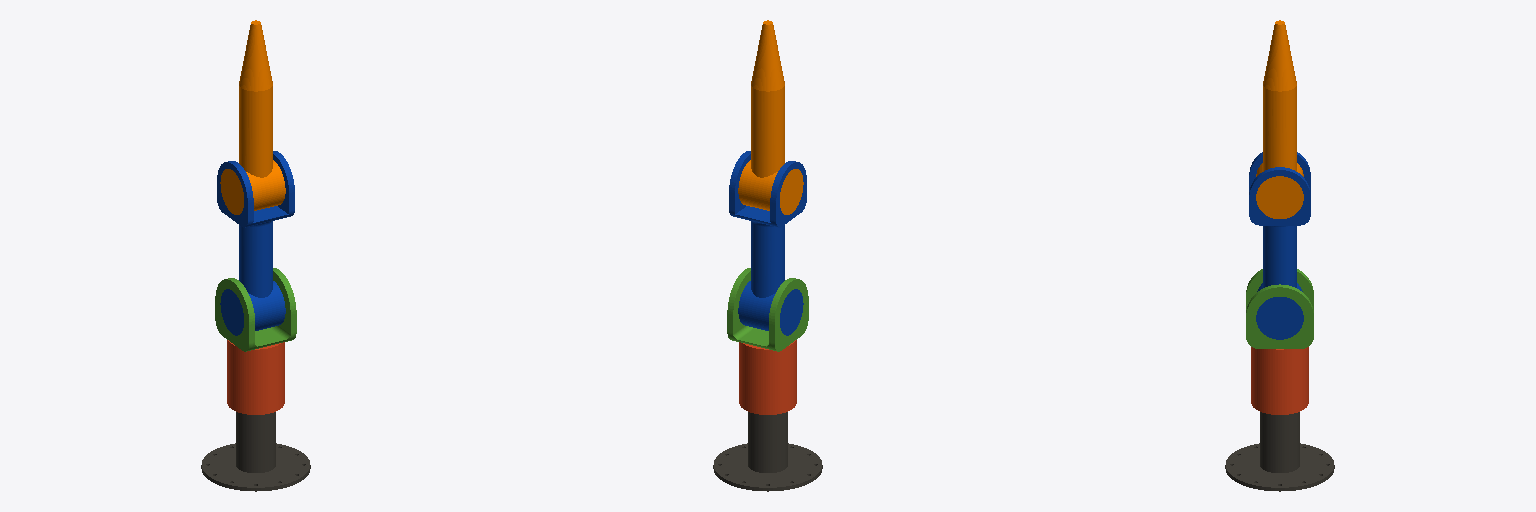
robot.urdf — adjustable_height_arm_urdf:
<?xml version="1.0" ?>
<!-- Generated using onshape-to-robot -->
<!-- OnShape https://cad.onshape.com/documents/6a6e5b10ef079339c2ddde84/w/207da6d79692e0bbf50113f2/e/9f3edd12689fa0c486a7d0d7 -->
<robot name="adjustable_height_arm_urdf">
    <!-- Link base -->
    <link name="base">
        <inertial>
            <origin xyz="0 0 0" rpy="0 0 0"/>
            <mass value="0"/>
            <inertia ixx="0" ixy="0" ixz="0" iyy="0" iyz="0" izz="0"/>
        </inertial>
        <!-- Part base -->
        <visual>
            <origin xyz="0 0 0" rpy="0 -0 0"/>
            <geometry>
                <mesh filename="package://assets/base.stl"/>
            </geometry>
            <material name="base_material">
                <color rgba="0.301961 0.290196 0.262745 1.0"/>
            </material>
        </visual>
    </link>
    <!-- Link part1 -->
    <link name="part1">
        <inertial>
            <origin xyz="1.04896e-19 1.19328e-18 0.027892" rpy="0 0 0"/>
            <mass value="0.298971"/>
            <inertia ixx="0.000123868" ixy="0" ixz="0" iyy="0.000123868" iyz="0" izz="9.58869e-05"/>
        </inertial>
        <!-- Part part1 -->
        <visual>
            <origin xyz="0 -4.65366e-18 -0.053" rpy="0 -0 0"/>
            <geometry>
                <mesh filename="package://assets/part1.stl"/>
            </geometry>
            <material name="part1_material">
                <color rgba="0.866667 0.321569 0.156863 1.0"/>
            </material>
        </visual>
    </link>
    <!-- Link part2 -->
    <link name="part2">
        <inertial>
            <origin xyz="6.6239e-09 -1.69553e-10 -0.0149478" rpy="0 0 0"/>
            <mass value="0.148575"/>
            <inertia ixx="6.89125e-05" ixy="6.11498e-11" ixz="-5.85353e-12" iyy="6.97803e-05" iyz="1.49834e-13" izz="6.69782e-05"/>
        </inertial>
        <!-- Part part2 -->
        <visual>
            <origin xyz="2.82344e-18 1.22153e-17 0.106" rpy="3.14159 -0 -8.41403e-56"/>
            <geometry>
                <mesh filename="package://assets/part2.stl"/>
            </geometry>
            <material name="part2_material">
                <color rgba="0.372549 0.654902 0.239216 1.0"/>
            </material>
        </visual>
    </link>
    <!-- Link part3 -->
    <link name="part3">
        <inertial>
            <origin xyz="-3.06226e-08 -0.0314519 -0.02" rpy="0 0 0"/>
            <mass value="0.642728"/>
            <inertia ixx="0.000872587" ixy="2.83073e-11" ixz="2.04764e-10" iyy="0.000126043" iyz="-1.52882e-10" izz="0.000853226"/>
        </inertial>
        <!-- Part part3 -->
        <visual>
            <origin xyz="0 0.131 -0.02" rpy="1.5708 1.5708 0"/>
            <geometry>
                <mesh filename="package://assets/part3.stl"/>
            </geometry>
            <material name="part3_material">
                <color rgba="0.0862745 0.317647 0.690196 1.0"/>
            </material>
        </visual>
    </link>
    <!-- Link part4 -->
    <link name="part4">
        <inertial>
            <origin xyz="-3.54611e-08 -0.0331362 -0.02" rpy="0 0 0"/>
            <mass value="0.64593"/>
            <inertia ixx="0.000969336" ixy="2.66297e-11" ixz="-2.9556e-10" iyy="8.7724e-05" iyz="2.45199e-10" izz="0.000952436"/>
        </inertial>
        <!-- Part part4 -->
        <visual>
            <origin xyz="0 0.2285 -0.02" rpy="1.5708 1.5708 0"/>
            <geometry>
                <mesh filename="package://assets/part4.stl"/>
            </geometry>
            <material name="part4_material">
                <color rgba="0.972549 0.529412 0.00392157 1.0"/>
            </material>
        </visual>
    </link>
    <!-- Frame tip (dummy link + fixed joint) -->
    <link name="tip">
        <origin xyz="0 0 0" rpy="0 -0 0"/>
        <inertial>
            <origin xyz="0 0 0" rpy="0 0 0"/>
            <mass value="1e-9"/>
            <inertia ixx="0" ixy="0" ixz="0" iyy="0" iyz="0" izz="0"/>
        </inertial>
    </link>
    <joint name="tip_frame" type="fixed">
        <origin xyz="1.00568e-18 -0.1325 -0.02" rpy="1.5708 -5.42342e-31 -1.57772e-30"/>
        <parent link="part4"/>
        <child link="tip"/>
        <axis xyz="0 0 0"/>
    </joint>
    <!-- Joint from part3 to part4 -->
    <joint name="part4" type="revolute">
        <origin xyz="9.86076e-32 -0.0975 0" rpy="1.20178e-31 -4.12919e-31 -2.16493e-15"/>
        <parent link="part3"/>
        <child link="part4"/>
        <axis xyz="0 0 1"/>
        <limit effort="10" velocity="10" lower="-3.141592653589793" upper="3.141592653589793"/>
    </joint>
    <!-- Joint from part2 to part3 -->
    <joint name="part3" type="revolute">
        <origin xyz="-0.02 1.22153e-17 -0.025" rpy="1.5708 3.58047e-15 -1.5708"/>
        <parent link="part2"/>
        <child link="part3"/>
        <axis xyz="0 0 1"/>
        <limit effort="10" velocity="10" lower="-3.141592653589793" upper="3.141592653589793"/>
    </joint>
    <!-- Joint from part1 to part2 -->
    <joint name="part2" type="revolute">
        <origin xyz="-2.82344e-18 2.35752e-18 0.053" rpy="-3.14159 1.71113e-29 -5.55112e-17"/>
        <parent link="part1"/>
        <child link="part2"/>
        <axis xyz="0 0 1"/>
        <limit effort="10" velocity="10" lower="-3.141592653589793" upper="3.141592653589793"/>
    </joint>
    <!-- Joint from base to part1 -->
    <joint name="slider" type="prismatic">
        <origin xyz="0 2.91893e-18 0.053" rpy="0 -0 0"/>
        <parent link="base"/>
        <child link="part1"/>
        <axis xyz="0 0 1"/>
        <limit effort="10" velocity="10" lower="-0.05" upper="-0"/>
    </joint>
</robot>

--- Render facts (derived) ---
Views: 3 orthographic renders of the robot side by side, from view 1: azimuth 30°, elevation 25°; view 2: azimuth 150°, elevation 25°; view 3: azimuth 270°, elevation 25°.
Robot: adjustable_height_arm_urdf — 6 links, 5 joints (3 revolute, 1 prismatic, 1 fixed); root link base; default pose: every joint at zero.
Visible links, largest first — view 1: part3, part4, base, part1, part2; view 2: part3, part4, base, part1, part2; view 3: part4, part3, base, part1, part2.
Boxes of the visible links, x1,y1,x2,y2 form: part3: [217, 151, 294, 335]; part4: [220, 20, 285, 214]; base: [201, 412, 310, 491]; part1: [227, 340, 284, 414]; part2: [215, 268, 296, 351]; part3: [729, 151, 806, 335]; part4: [738, 20, 803, 214]; base: [713, 412, 822, 491]; part1: [739, 340, 796, 414]; part2: [727, 268, 808, 351]; part4: [1256, 20, 1303, 218]; part3: [1249, 152, 1310, 339]; base: [1225, 412, 1334, 491]; part1: [1251, 347, 1308, 414]; part2: [1246, 269, 1313, 348].
Bounding box of the posed robot: 0.08 × 0.08 × 0.361 m (x, y, z).
5 mesh visuals loaded from 5 distinct referenced files (5 binary STL).